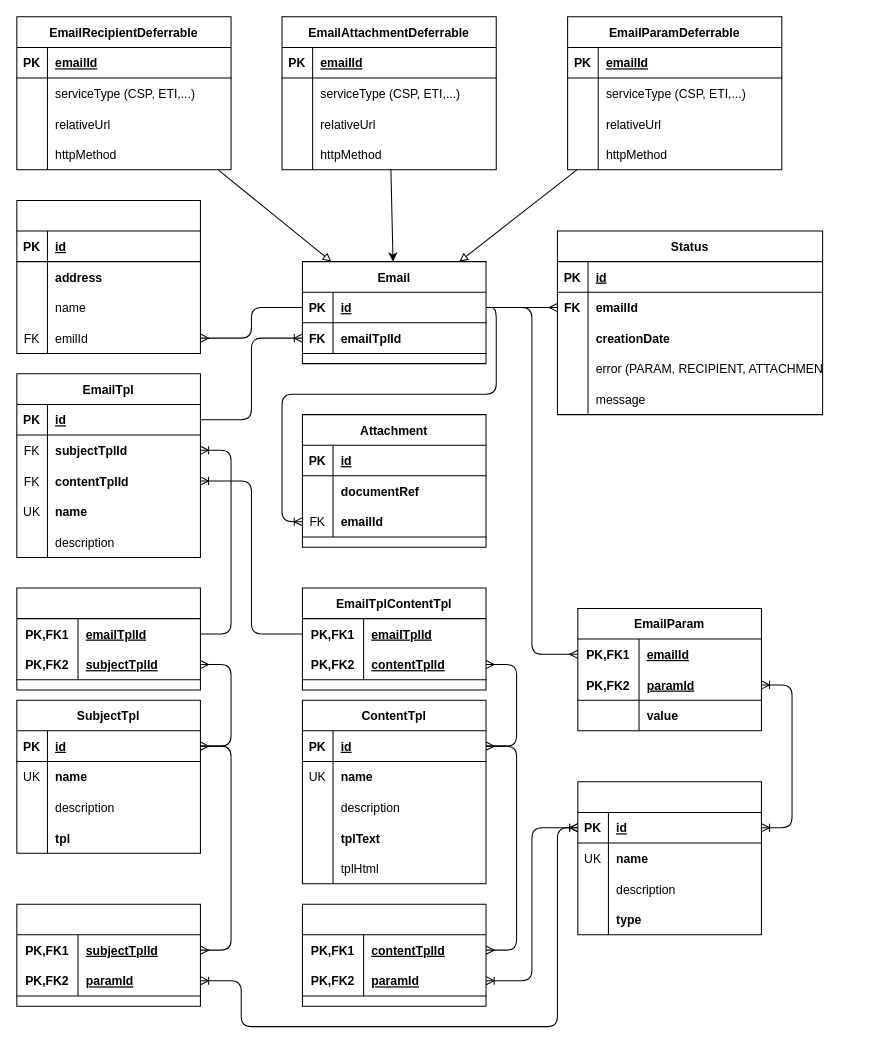
Image size: 890x1043. Some labels were removed from this diagram. The shapes that lost their labels are listed below. From the top down, each one's box as (x1, y1, x2, y2) in pixels, then its label:
(16, 199, 200, 353): Recipient
(16, 587, 200, 690): EmailTplSubjectTpl
(577, 781, 761, 935): Param
(16, 903, 200, 1006): SubjectTplParam
(301, 903, 486, 1006): ContentTplParam
